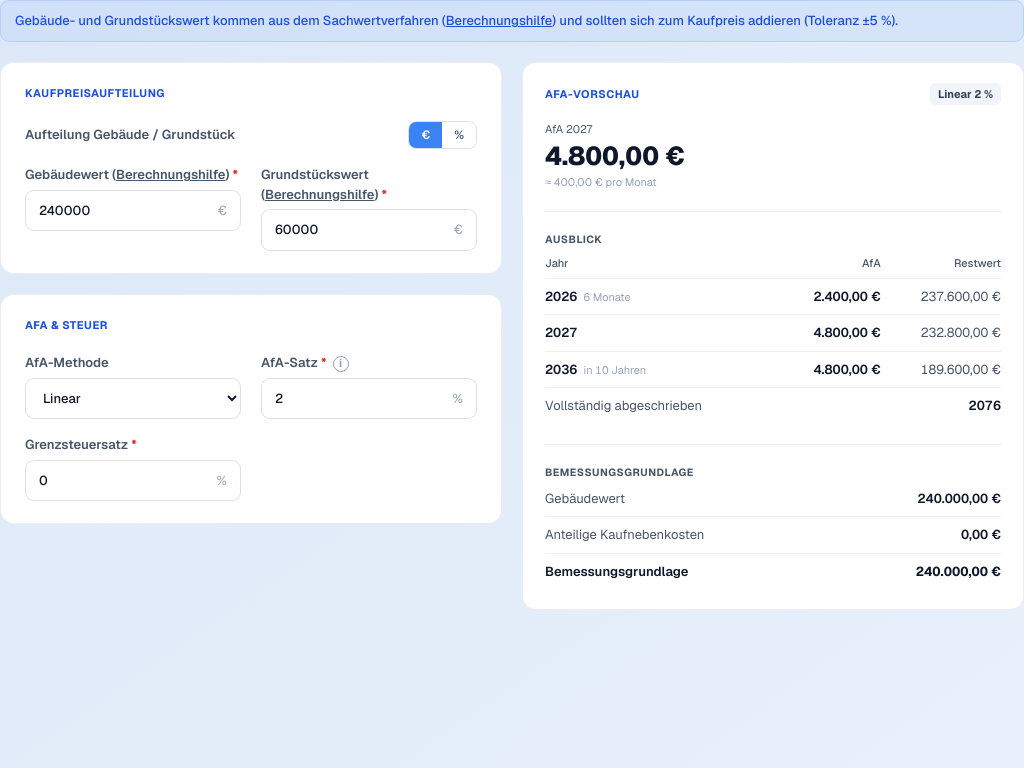
Test: StepAfaSteuer degressive AfA › Degressiv blendet den AfA-Satz aus (fest 3 %) und hat kein Wechseljahr-Feld
The width and height of the screenshot is (1024, 768).
Select "Degressiv 5 %" in the dropdown labelled "AfA-Methode" at [133, 398], box [25, 378, 241, 418]
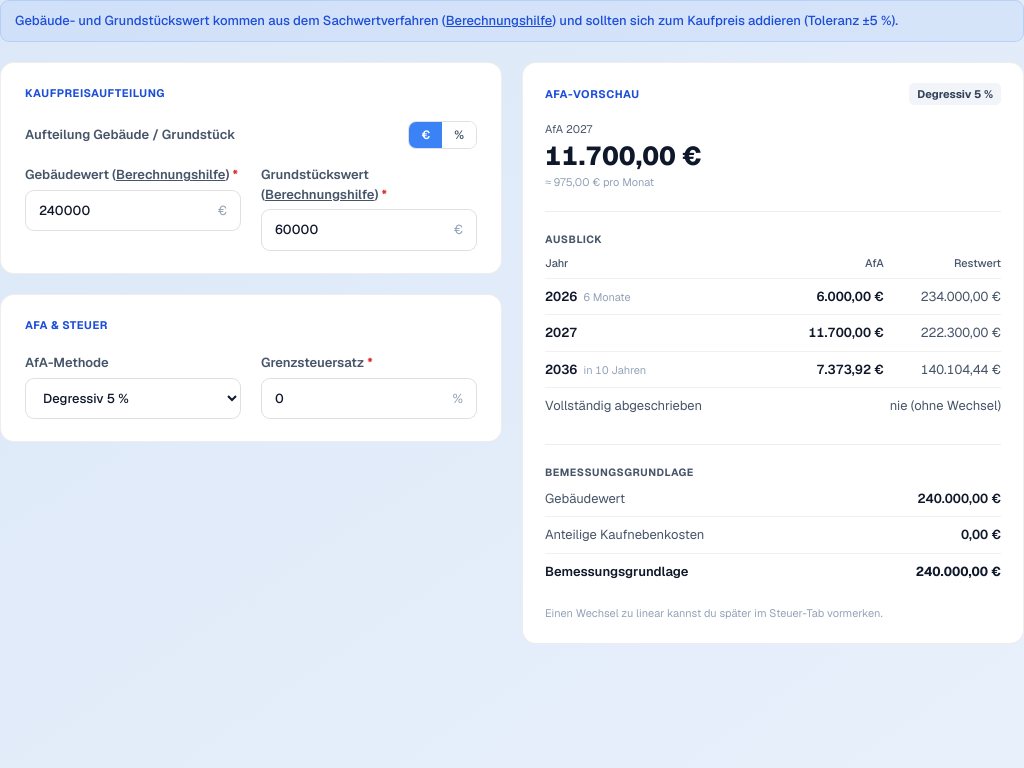
Expected: the number field labelled "Grenzsteuersatz * %" is shown, [262, 378, 453, 418]
Now the field labelled "AfA-Satz" is gone
